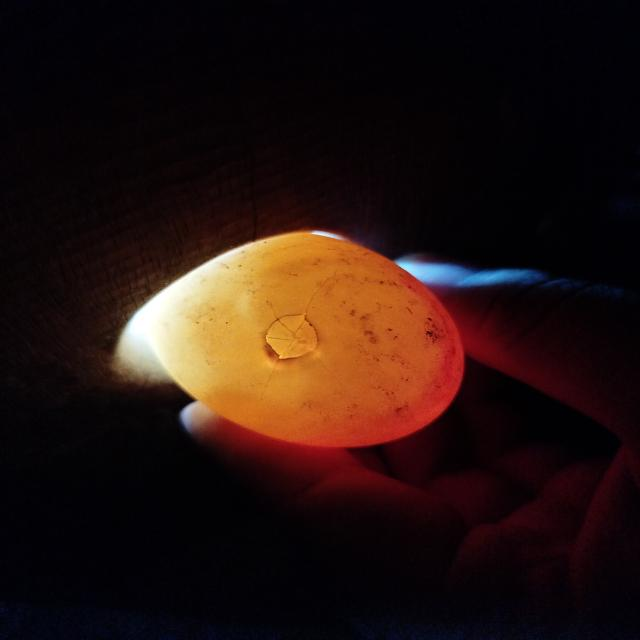Rachadura: (266, 315, 317, 359)
